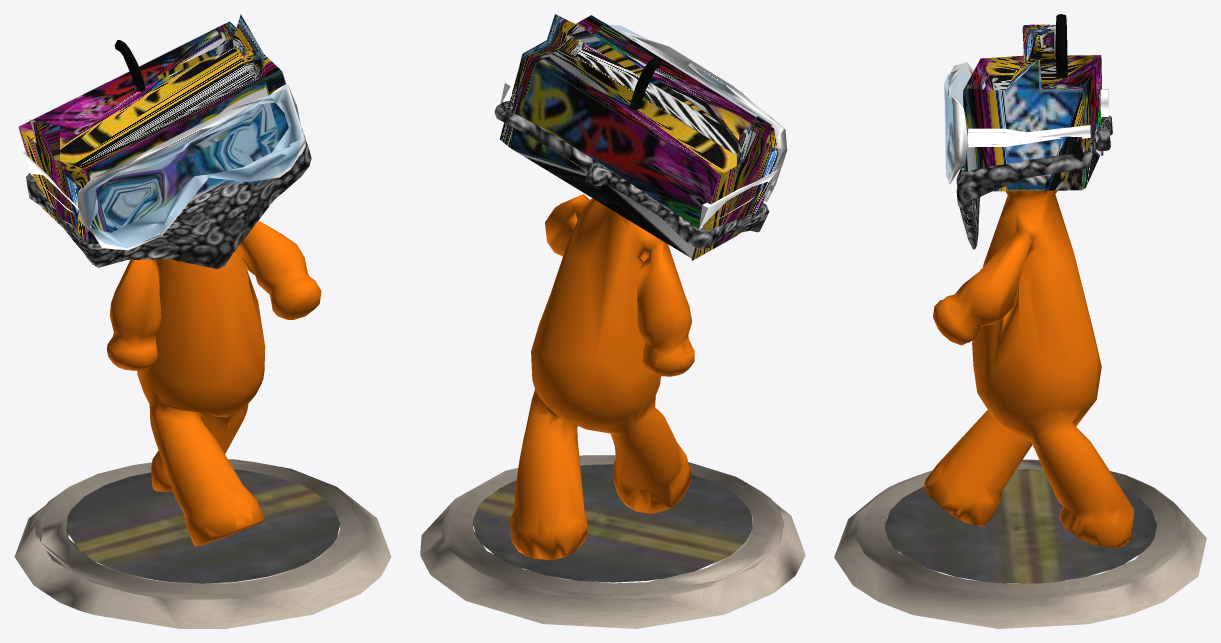
The picture shows the model from 3 angles, left to right: view 1: azimuth 30°, elevation 25°; view 2: azimuth 150°, elevation 25°; view 3: azimuth 270°, elevation 25°; orthographic projection. The views are drawn at different scales.
Size of the model in its own units: 1.44 by 2.19 by 1.44.
Materials: 9 (4 with a texture image).
